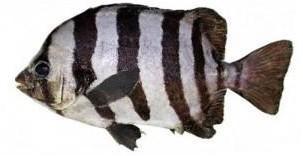fish: (14, 3, 293, 153)
